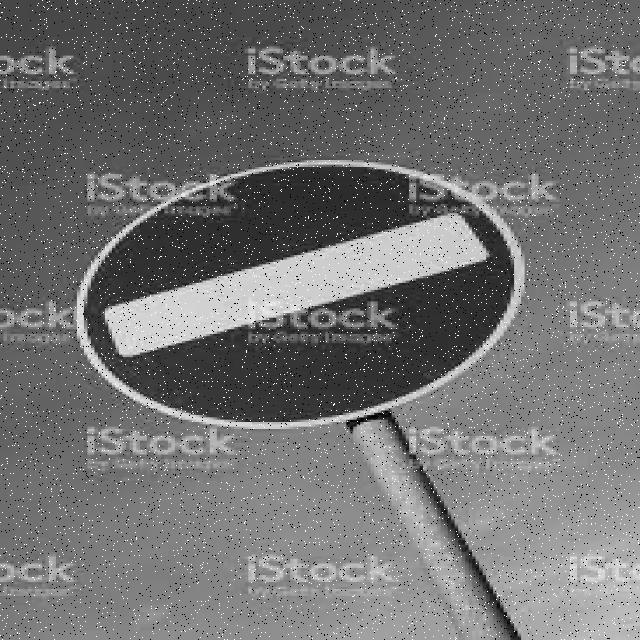no entry: (84, 165, 511, 418)
